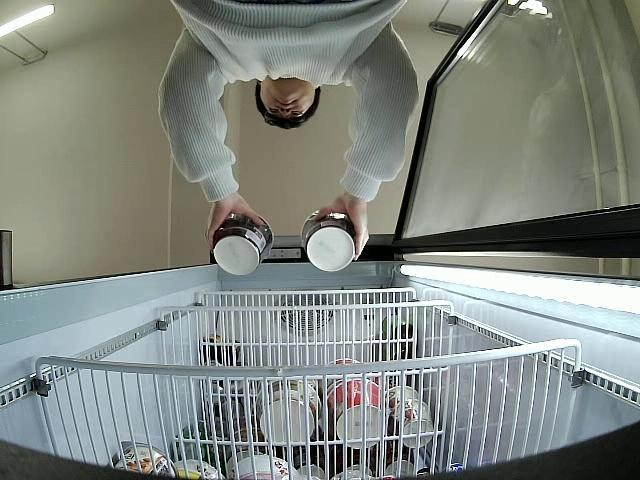07_buldak_L: (212, 213, 272, 276), (300, 209, 356, 272)
